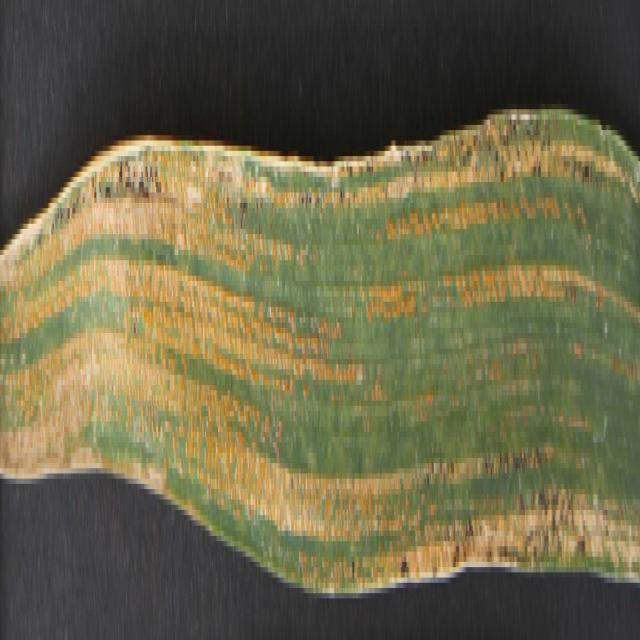leaf rust: (1, 125, 637, 593)
